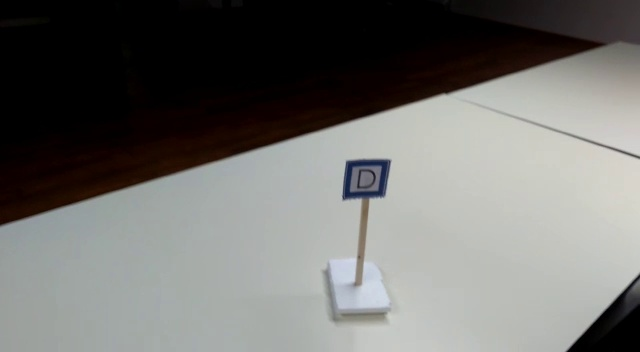durak: (342, 159, 390, 199)
